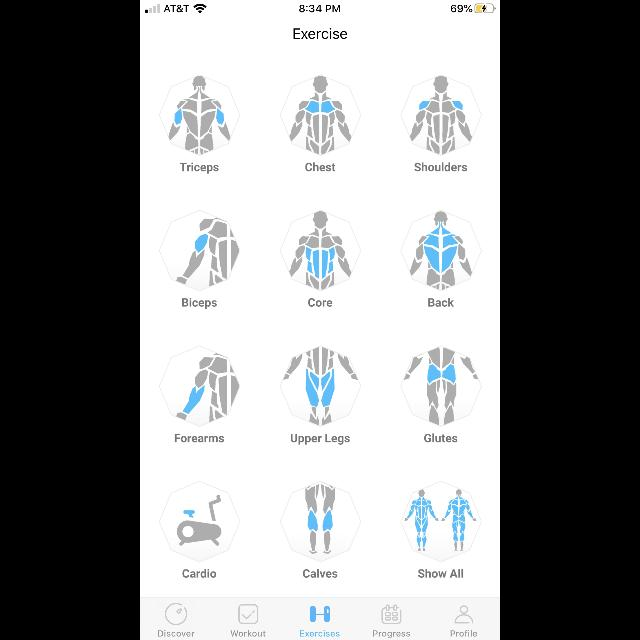icon: (238, 604, 258, 624), (382, 604, 402, 624), (454, 604, 474, 624)
image: (159, 75, 241, 157), (280, 75, 362, 157), (400, 74, 482, 156), (159, 210, 241, 292), (280, 209, 362, 291), (400, 210, 482, 292), (159, 345, 241, 427), (280, 345, 362, 427), (280, 480, 362, 562), (400, 481, 482, 563), (158, 481, 240, 562), (400, 346, 482, 426), (165, 602, 188, 626), (310, 606, 330, 622)
text: (293, 28, 347, 40), (291, 434, 349, 444), (414, 162, 468, 172), (418, 568, 464, 578), (180, 162, 218, 174), (175, 433, 225, 442), (182, 298, 218, 310), (302, 568, 338, 578), (424, 433, 458, 443), (183, 568, 217, 578), (305, 162, 335, 172), (374, 630, 411, 638), (428, 297, 454, 307), (300, 630, 340, 636), (308, 298, 332, 308), (158, 630, 196, 636), (230, 630, 266, 636), (450, 630, 478, 636)
uppertaskbar: (140, 0, 500, 14)
